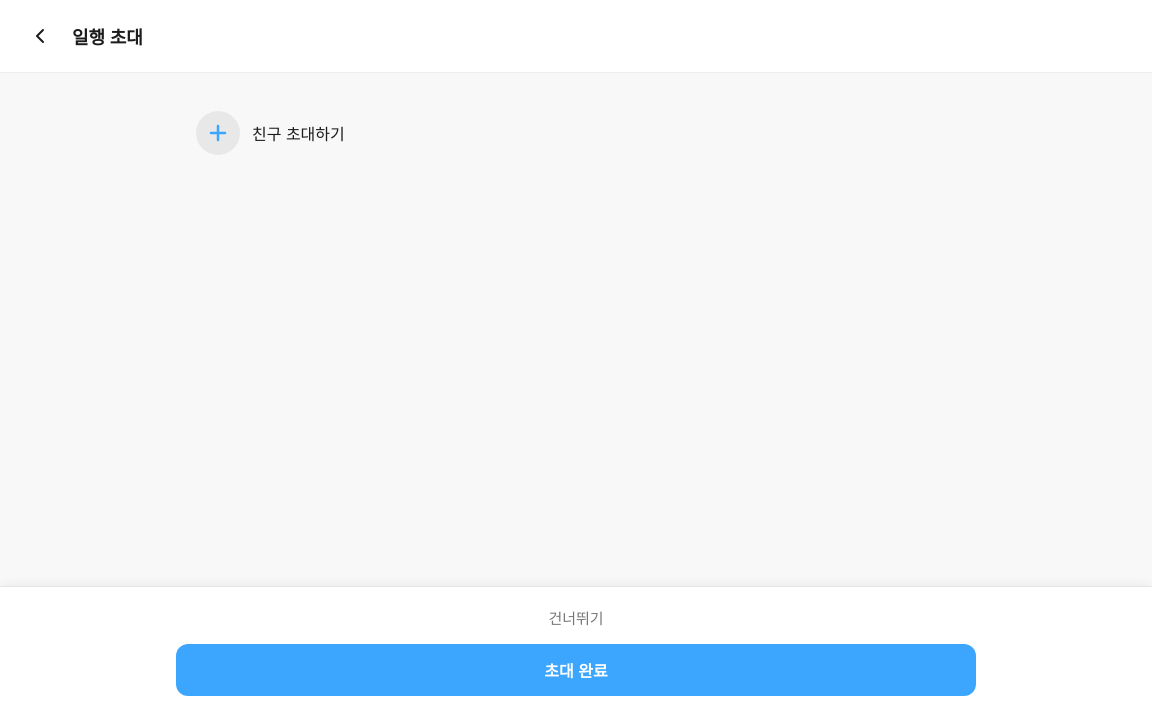
Test: InviteCompanionsPage › '친구 초대하기' 클릭 시 모달이 열린다
Click the button "친구 초대하기" at (218, 133), box [196,97,956,169]
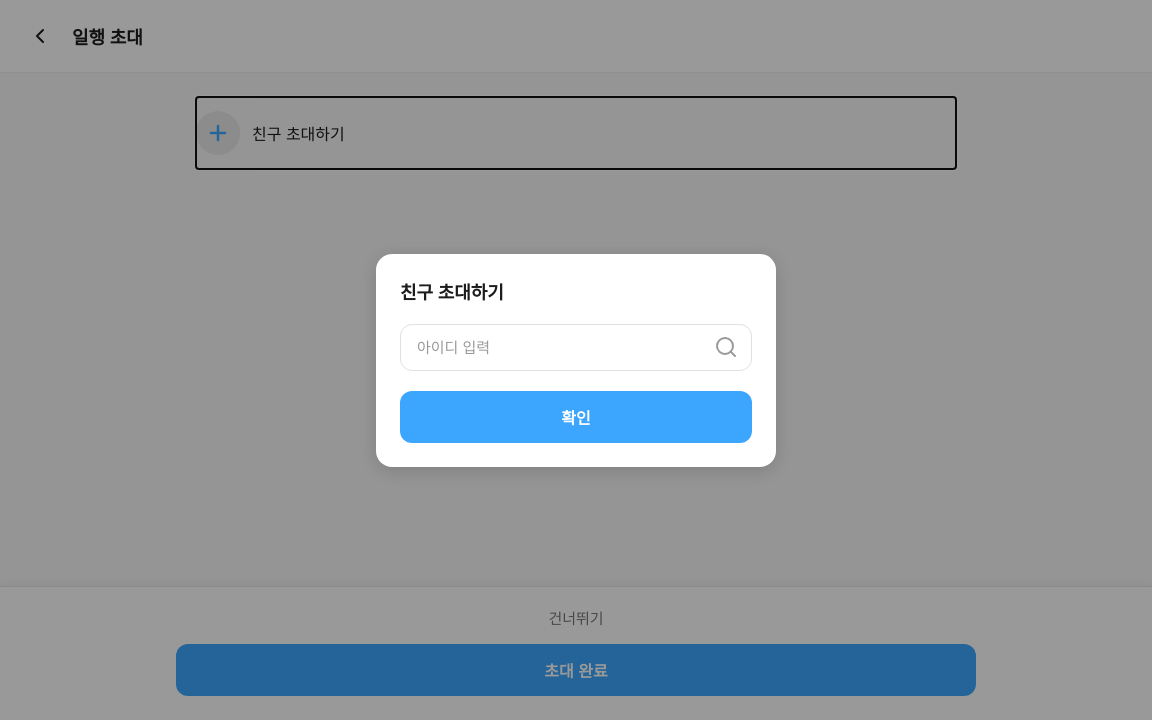
Result: the field with placeholder "아이디 입력" is shown at [400,324,752,370]
Result: the button "확인" is shown at [400,390,752,442]
